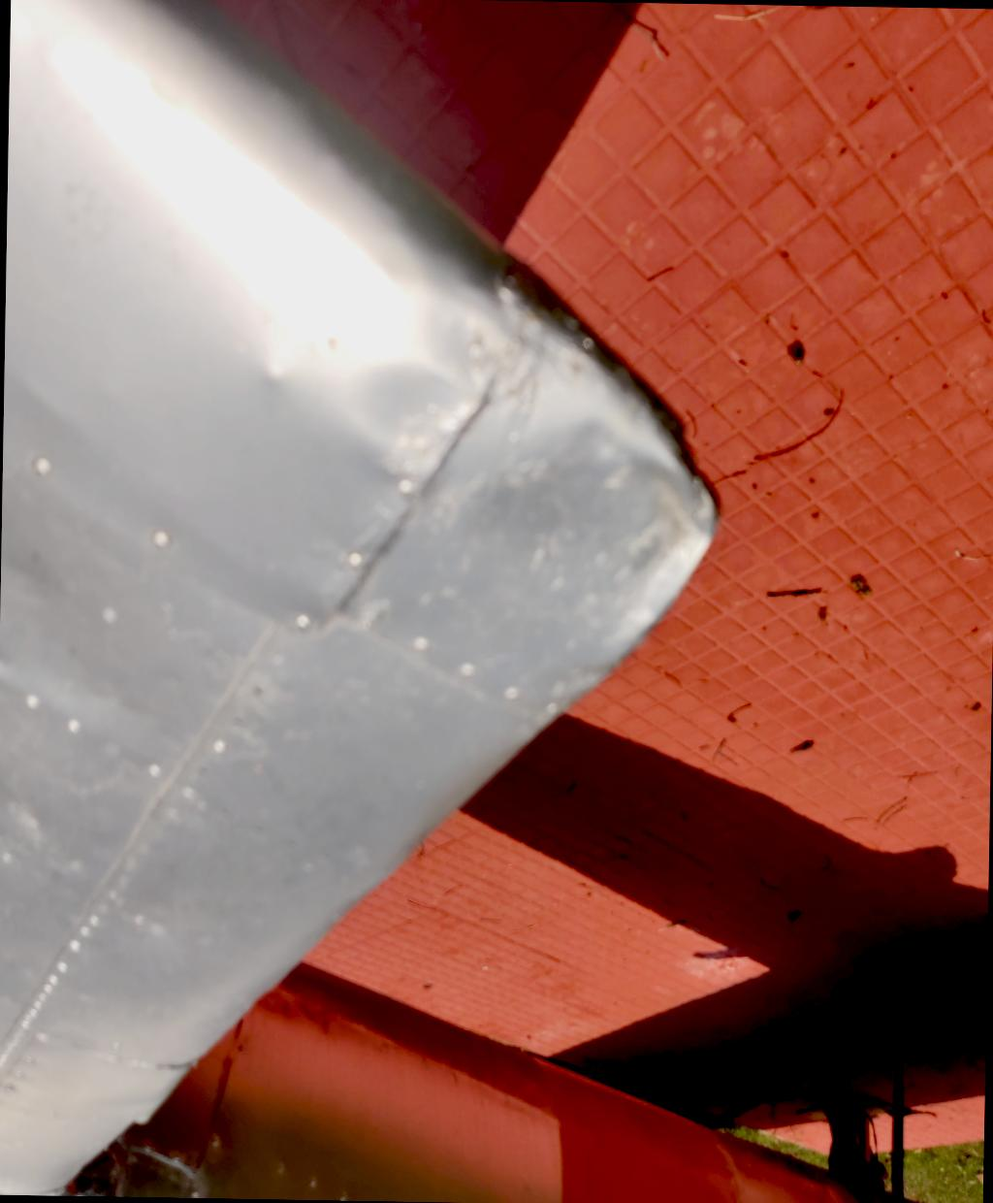dent: (486, 395, 767, 701)
